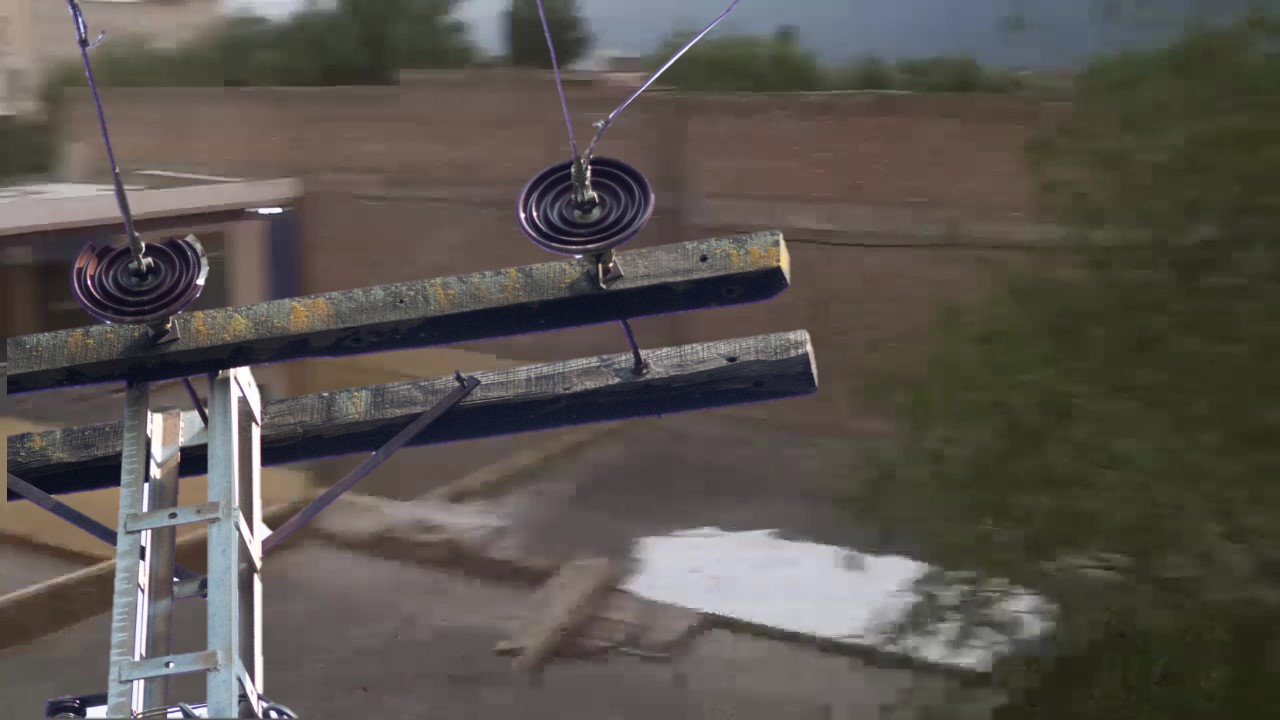defect_disc: (68, 223, 219, 323)
insulator_disc: (511, 147, 661, 249)
